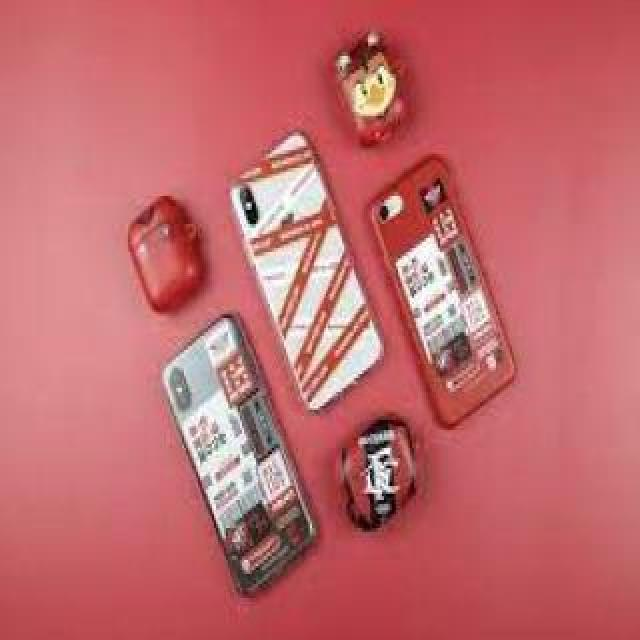smart phone: (228, 125, 387, 375), (376, 170, 532, 420), (160, 326, 265, 602)
